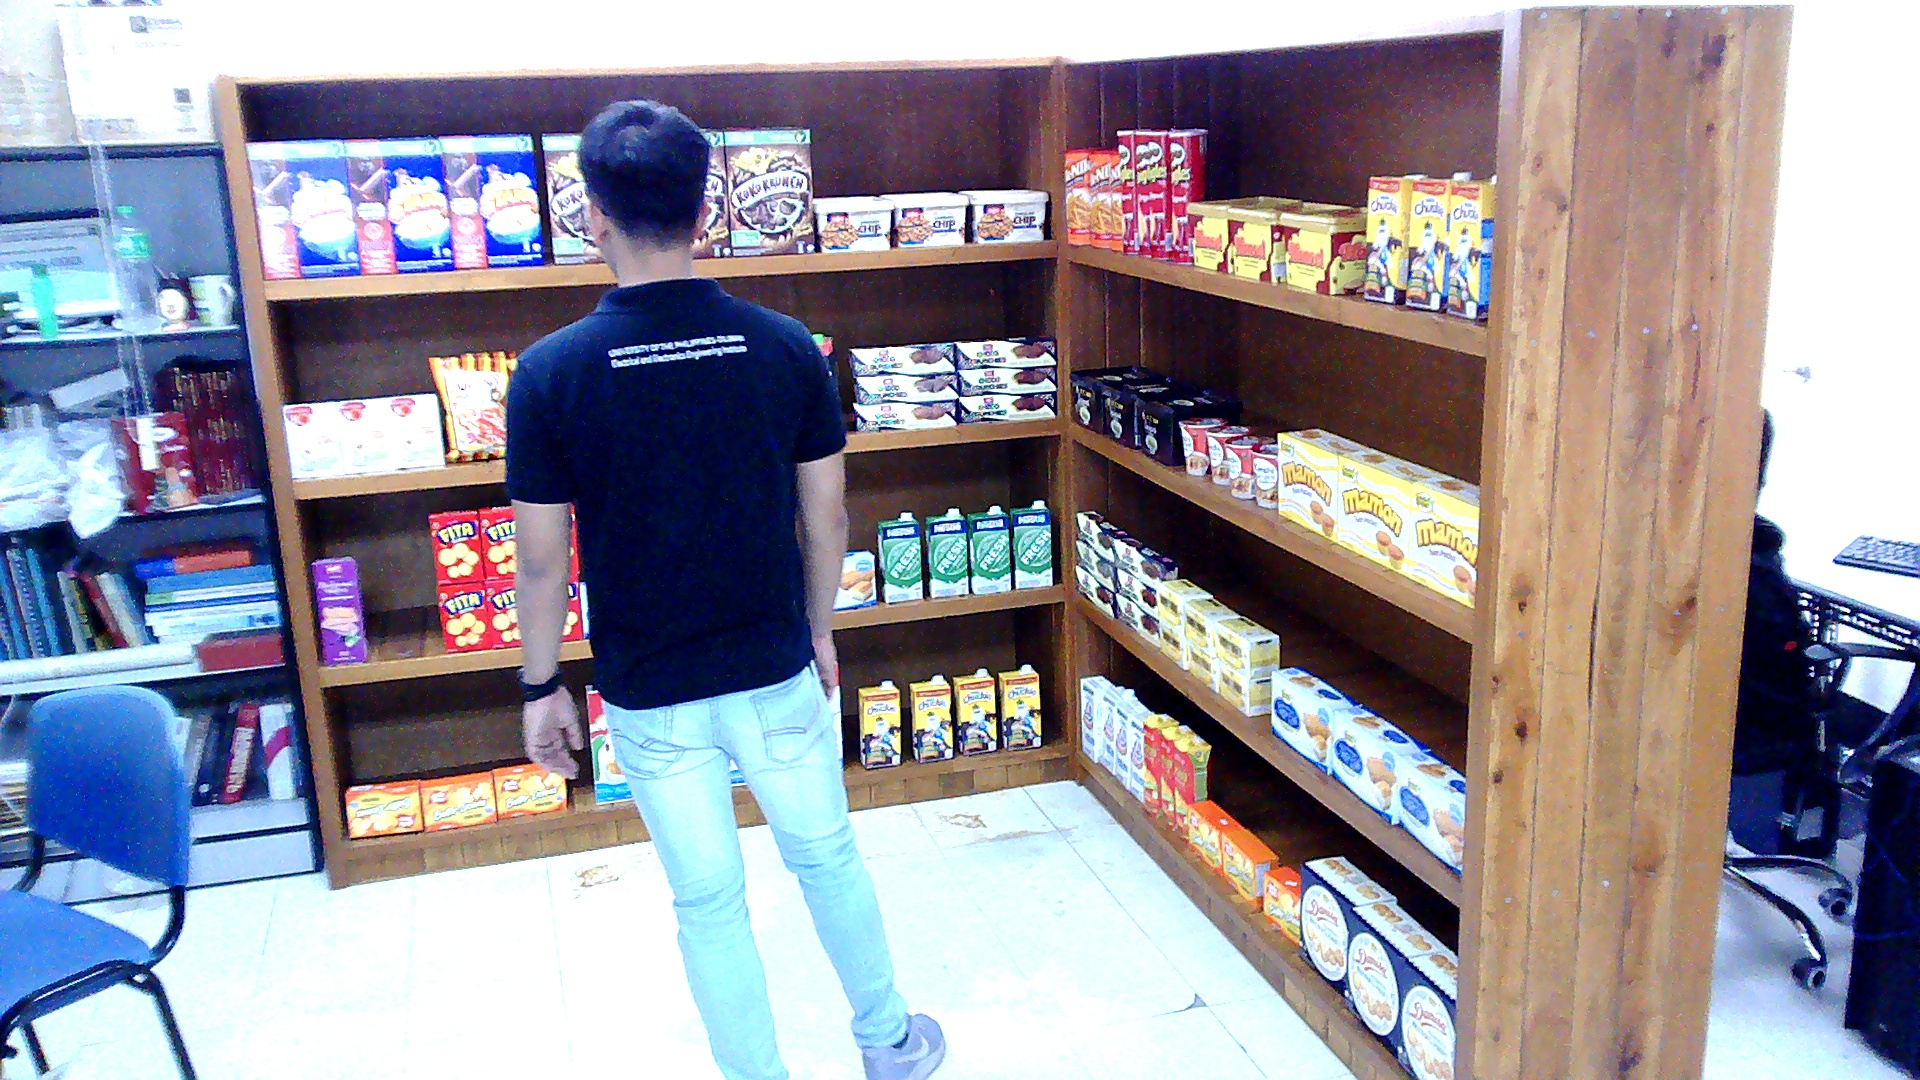Bear brand: (1077, 673, 1116, 761), (1112, 695, 1145, 787), (1100, 686, 1133, 774), (1127, 709, 1154, 801)
Buttercake: (1329, 702, 1428, 824), (1269, 666, 1359, 774), (1398, 749, 1464, 873)
Butterlicious: (342, 778, 423, 837), (417, 771, 495, 830), (1224, 828, 1278, 909), (1188, 798, 1242, 877), (491, 763, 566, 819), (1263, 863, 1299, 944)
Camomille: (1215, 614, 1278, 675), (1215, 656, 1269, 715), (1182, 596, 1236, 652), (1158, 576, 1212, 630), (1185, 639, 1215, 691), (1157, 618, 1184, 667)
Choco Crunchies: (852, 398, 957, 432), (846, 342, 954, 374), (852, 371, 957, 403), (950, 337, 1055, 369), (957, 364, 1056, 396), (1113, 535, 1179, 580), (957, 391, 1056, 420), (1077, 508, 1128, 560), (1112, 564, 1157, 611), (1073, 562, 1112, 616), (1115, 594, 1154, 643), (1073, 540, 1112, 589)
Chocolate Chips: (956, 187, 1049, 243), (879, 188, 966, 247), (812, 196, 893, 252)
Chuckie: (1404, 171, 1470, 311), (1362, 171, 1428, 301), (1445, 173, 1496, 319), (950, 666, 995, 754), (996, 664, 1041, 750), (909, 673, 951, 763), (858, 679, 900, 769)
Danisa: (1344, 902, 1449, 1057), (1299, 855, 1398, 999), (1398, 950, 1458, 1078)
Fita: (426, 506, 483, 585), (435, 583, 489, 653), (477, 504, 513, 580), (483, 580, 519, 648)
Fresh Milk: (876, 511, 924, 601), (1008, 499, 1053, 587), (966, 504, 1011, 594), (924, 506, 966, 598)
Grahams: (1131, 386, 1242, 465), (1092, 376, 1200, 448), (1068, 364, 1164, 434)
Hansel: (1224, 200, 1350, 281), (1185, 193, 1299, 272), (1277, 207, 1364, 295)
Head: (572, 83, 713, 274)
Honey Stars: (243, 137, 357, 279), (341, 137, 452, 272), (438, 132, 543, 267)
Kimchi Noodles: (1223, 434, 1274, 497), (1206, 422, 1254, 483), (1179, 416, 1227, 475), (1251, 439, 1275, 509)
Koko Krunch: (717, 124, 813, 254), (540, 131, 606, 261)
Locally Mango: (1173, 734, 1212, 842), (1143, 713, 1182, 819), (1160, 722, 1193, 830)
Mamon: (1338, 448, 1446, 578), (1278, 425, 1368, 542), (1413, 472, 1479, 607)
Oishi Prawn: (426, 348, 516, 461)
Pik-nik: (1065, 146, 1089, 243), (1088, 148, 1109, 247), (1110, 148, 1122, 249)
Pringles: (1167, 126, 1206, 263), (1116, 128, 1134, 252), (1131, 126, 1149, 256), (1146, 128, 1158, 256), (1160, 131, 1169, 259)
Wafer: (308, 556, 365, 662)
iHop: (281, 398, 344, 477), (386, 394, 443, 468), (339, 396, 393, 470)
